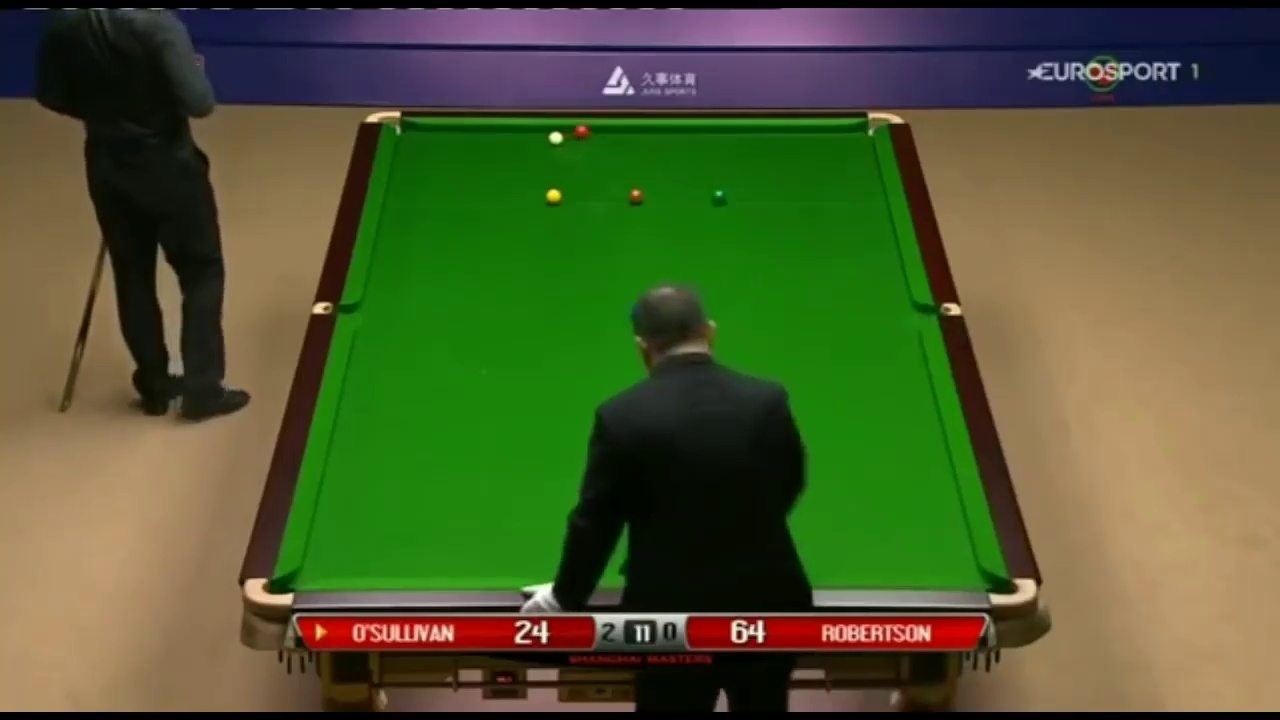ball: (708, 186, 728, 207), (625, 185, 643, 202), (544, 189, 564, 203)
